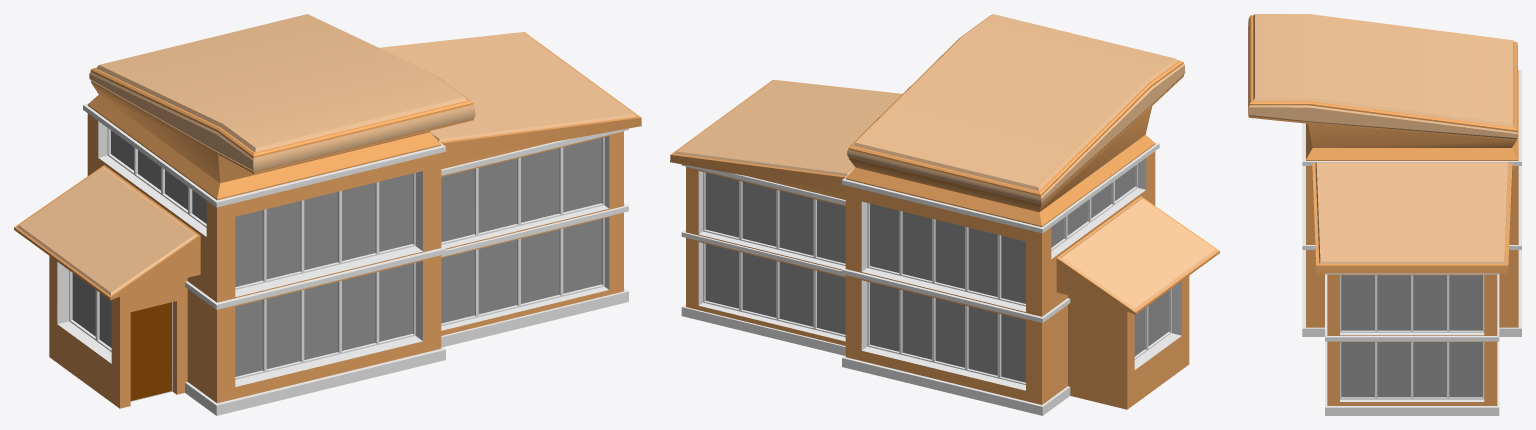
The model's file is SM_House_09_01.FBX.
The picture shows the model from 3 angles, left to right: view 1: azimuth 30°, elevation 25°; view 2: azimuth 150°, elevation 25°; view 3: azimuth 270°, elevation 25°; orthographic projection. The views are drawn at different scales.
Parts seen in each view (by area): view 1: SM_House_09_01; view 2: SM_House_09_01; view 3: SM_House_09_01.
Boxes of the visible parts, box(x1,y1,x2,y2) form: SM_House_09_01: box(14, 14, 641, 415); SM_House_09_01: box(670, 14, 1219, 415); SM_House_09_01: box(1248, 14, 1521, 415).
Bounding box in the file's own units: 13.96 × 7.33 × 7.72.
1 material, 1 textured.
